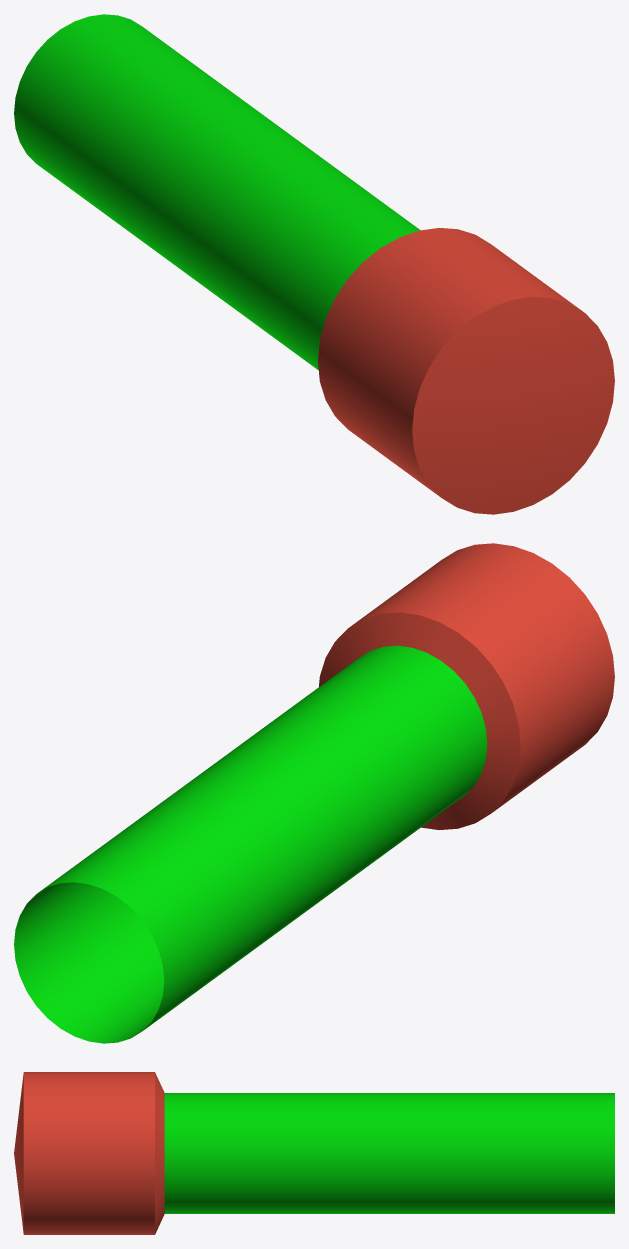
Rendered from SmolPipe.fbx.
3 views of the same model, one above another, from view 1: azimuth 30°, elevation 25°; view 2: azimuth 150°, elevation 25°; view 3: azimuth 270°, elevation 25° (orthographic). The views are drawn at different scales.
Parts seen in each view (by area): view 1: Pipe 1m; view 2: Pipe 1m; view 3: Pipe 1m.
Boxes of the visible parts, box(x1,y1,x2,y2) form: Pipe 1m: box(14, 14, 614, 514); Pipe 1m: box(14, 543, 614, 1043); Pipe 1m: box(14, 1072, 614, 1234).
Bounding box in the file's own units: 48.63 × 48.63 × 179.
